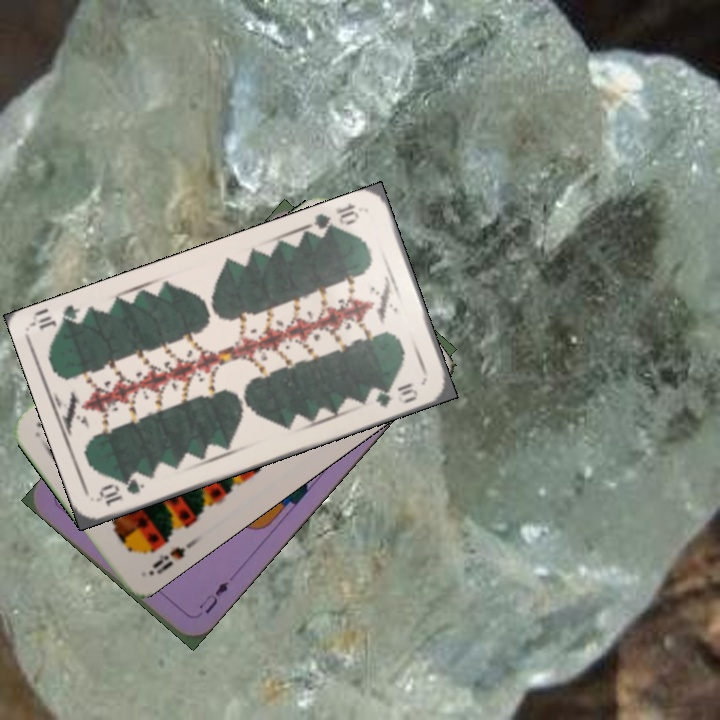EU: (200, 577, 232, 617)
G10: (306, 200, 362, 240), (95, 474, 147, 510)
S8: (148, 543, 188, 571)
